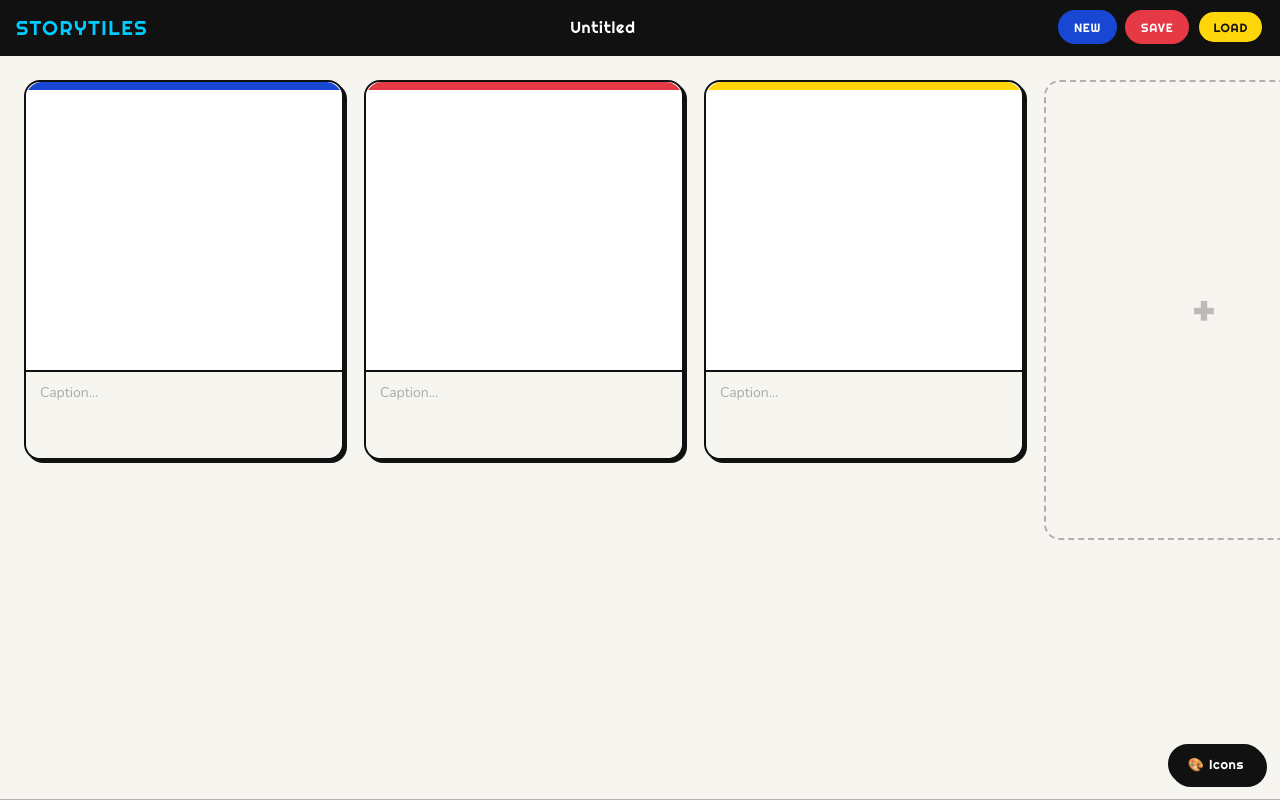
Create Story on dirty state shows unsaved warning
Type "Changed" into the 1st text box with placeholder "Caption..." at [184, 414], box [26,370,342,458]
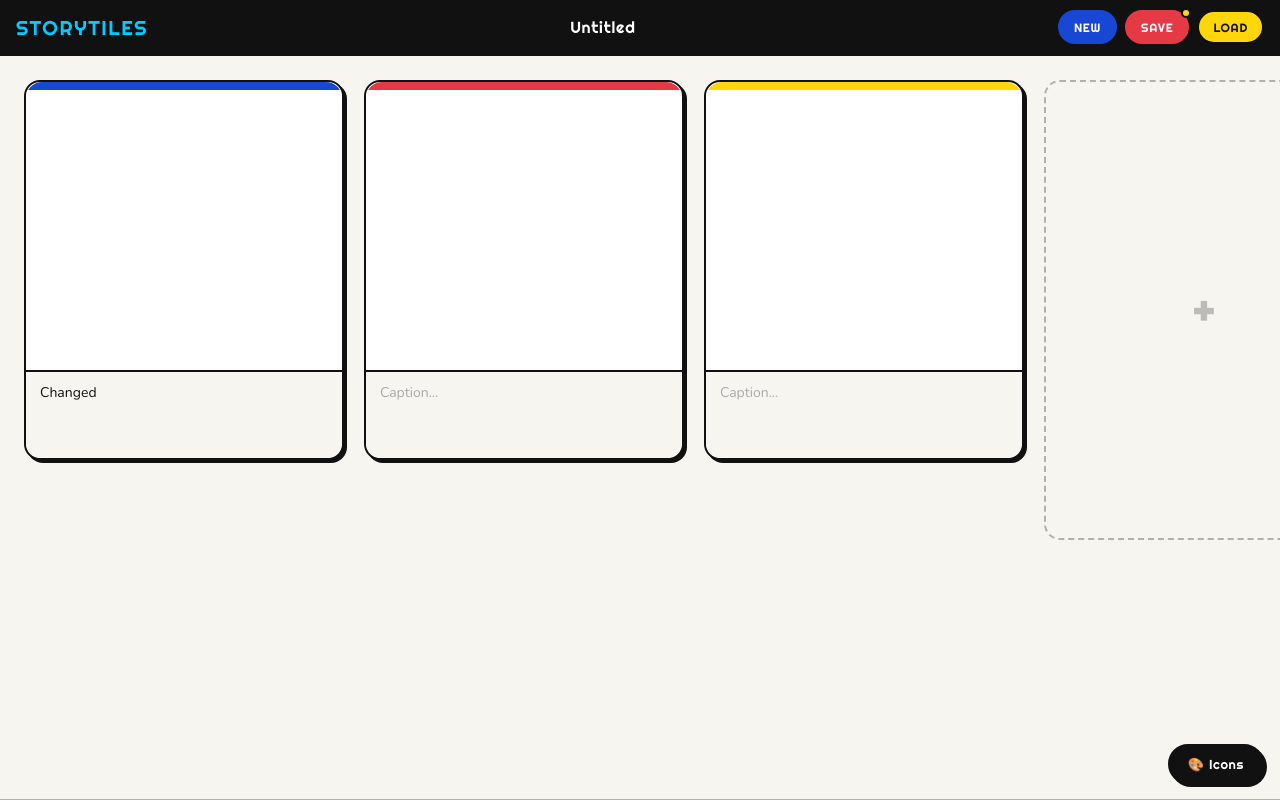
Click the button "New" at [1088, 27], box [1058,10,1117,44]
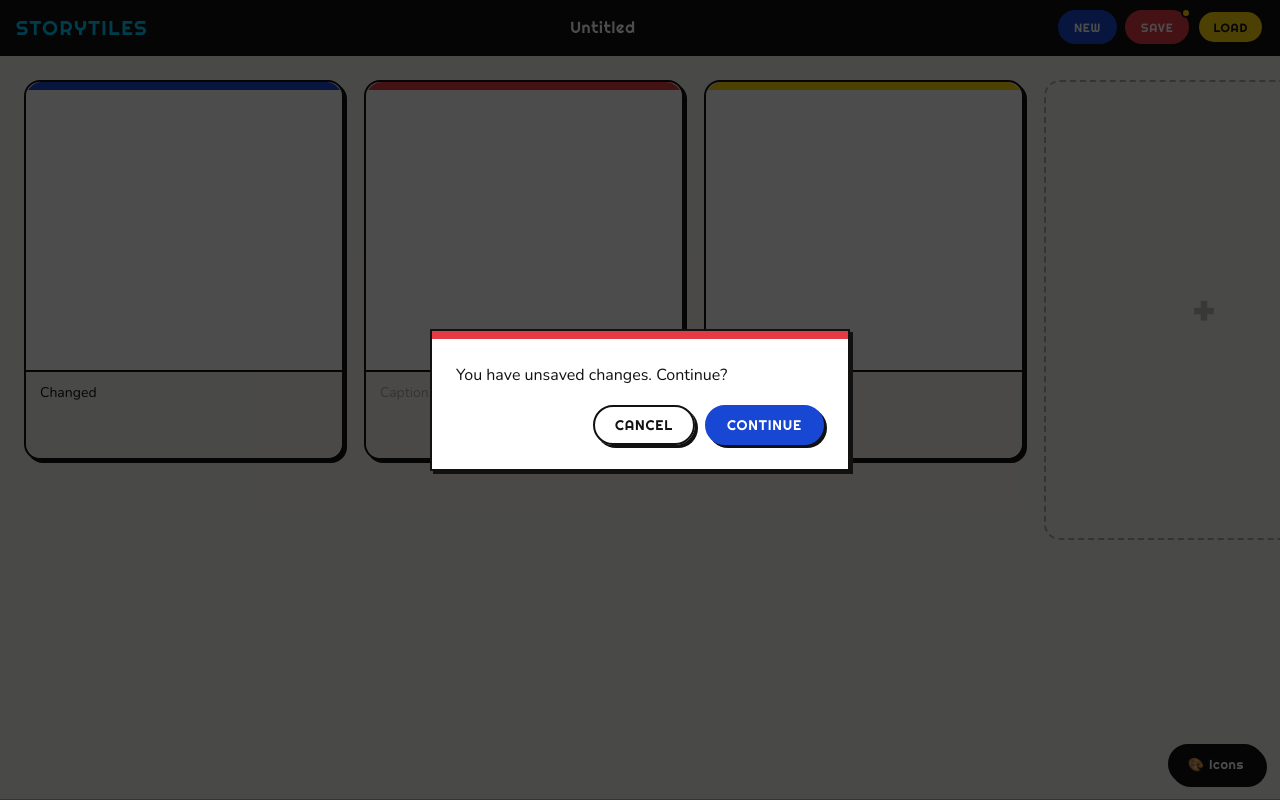
Result: the text "You have unsaved changes. Continue?" is shown at [456,364,727,386]
